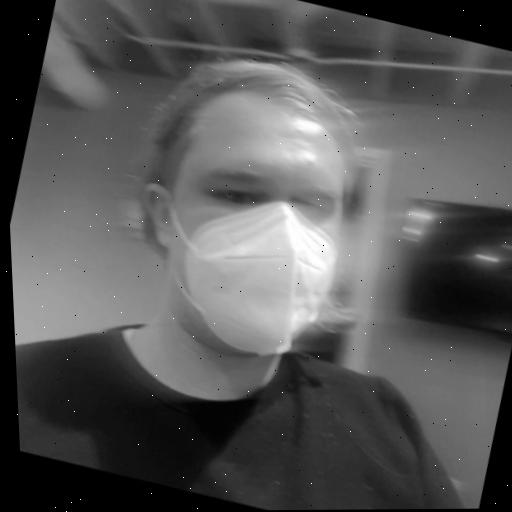mask: (54, 13, 413, 432)
